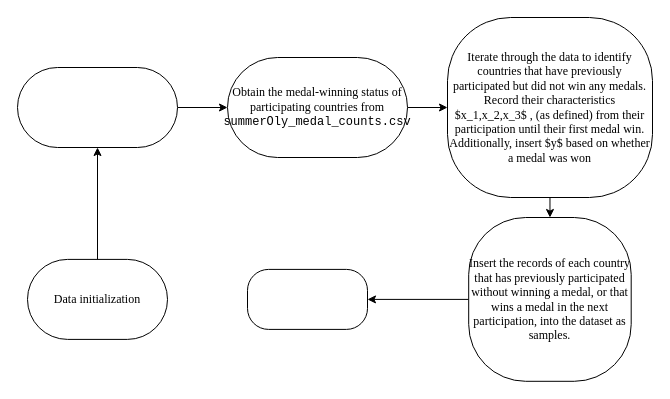
Some shapes in this 670 by 399 pixel diagram are drawn without their labels. The centre of each missing label's shape, as x and y in pixels:
"Complete the data initialization." goes at point 307,298.
"Extracting the Set of Participating Countries from summerOly_athletes.csv" goes at point 97,107.
